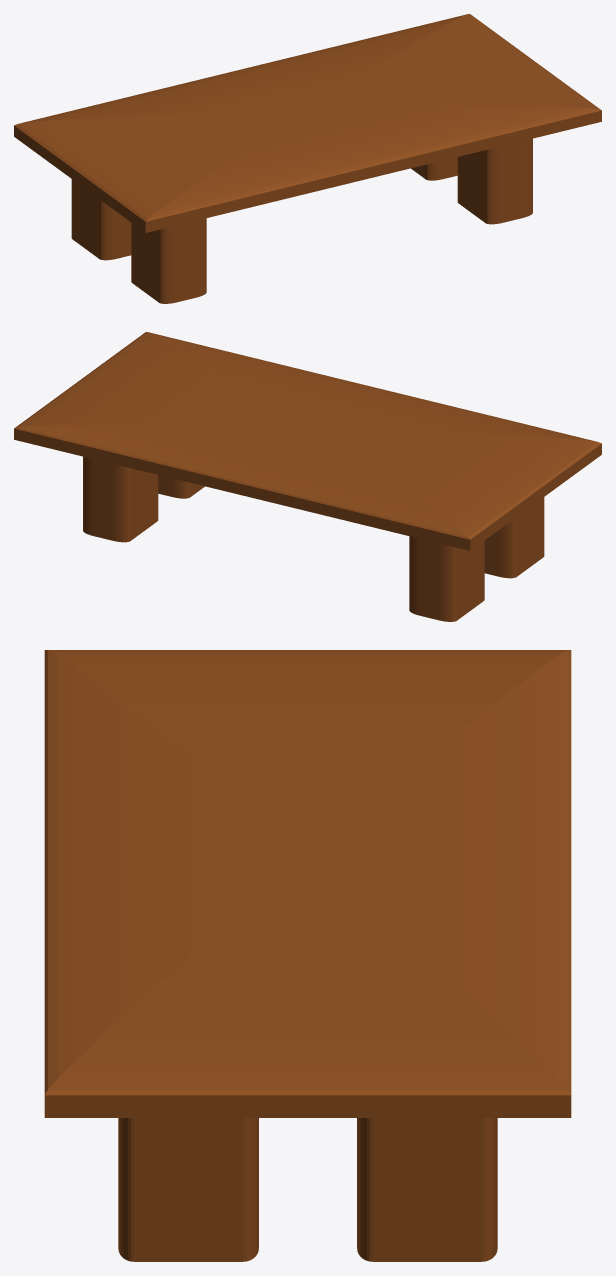
File: Table.fbx
3 renders of one model, top to bottom at view 1: azimuth 30°, elevation 25°; view 2: azimuth 150°, elevation 25°; view 3: azimuth 270°, elevation 25°, orthographic. The views are drawn at different scales.
Parts seen in each view (by area): view 1: Stul; view 2: Stul; view 3: Stul.
Part boxes in pixels (x1=…): Stul: x1=14, y1=14, x2=601, y2=303; Stul: x1=14, y1=332, x2=601, y2=621; Stul: x1=44, y1=650, x2=571, y2=1261.
Size of the model in its own units: 200 by 400 by 96.
